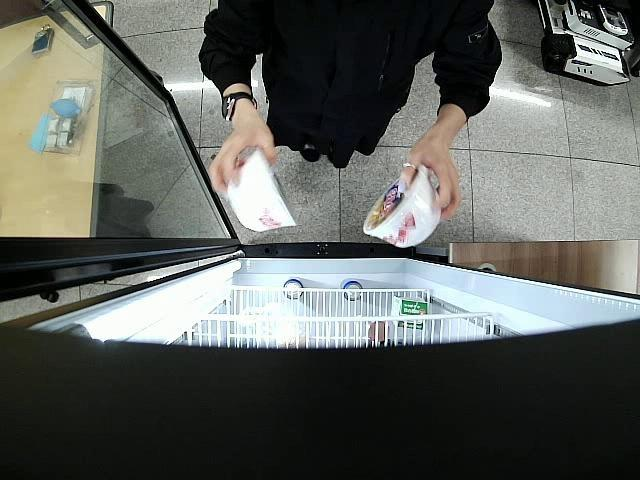09_yukGaeJang: (222, 146, 297, 234), (362, 162, 440, 246)
